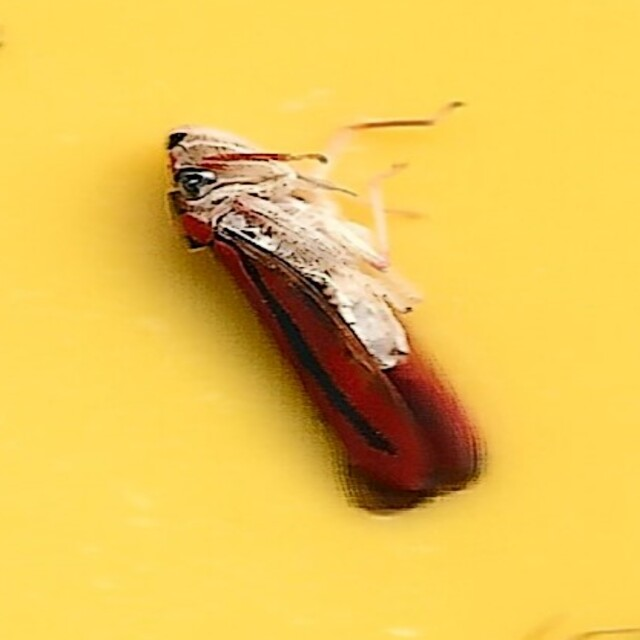Hemiptera: (153, 123, 487, 517)
